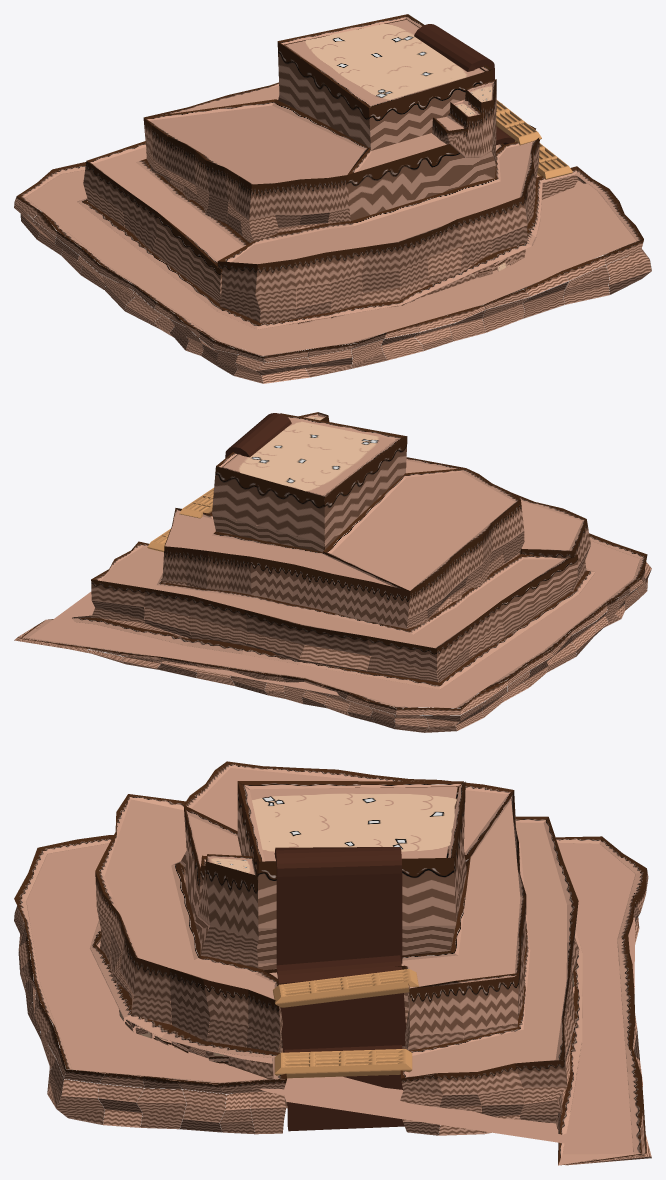
The model's file is MontanhaFinal (2).fbx.
3 views of the same model, one above another, from view 1: azimuth 30°, elevation 25°; view 2: azimuth 150°, elevation 25°; view 3: azimuth 270°, elevation 25° (orthographic). The views are drawn at different scales.
Parts seen in each view (by area): view 1: Cube.003, Cube, Cube.005, Cube.004; view 2: Cube.003, Cube, Cube.005; view 3: Cube.003, Cube, Cube.001, Cube.004, Cube.005, Cube.002.
Part boxes in pixels (box(x1,y1,x2,y2)): Cube.003: box(14, 14, 651, 383); Cube: box(414, 24, 494, 79); Cube.005: box(496, 100, 541, 145); Cube.004: box(537, 143, 572, 179); Cube.003: box(14, 412, 651, 732); Cube: box(225, 413, 291, 457); Cube.005: box(179, 488, 213, 518); Cube.003: box(14, 761, 651, 1165); Cube: box(274, 847, 402, 970); Cube.001: box(276, 955, 406, 1052); Cube.004: box(274, 1049, 412, 1078); Cube.005: box(273, 969, 418, 1007); Cube.002: box(284, 1045, 404, 1131).
Size of the model in its own units: 2489 by 929 by 2259.
